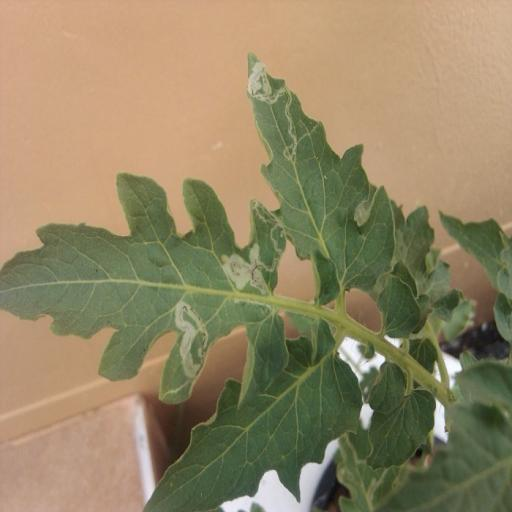disease_tomato: (0, 166, 287, 404), (240, 51, 394, 293)
